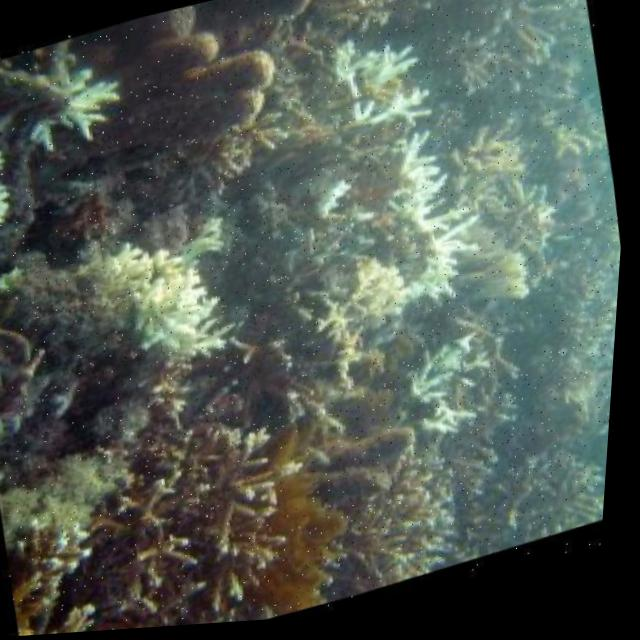Bleached Coral: (217, 11, 551, 509), (34, 194, 265, 445), (0, 14, 186, 250)
